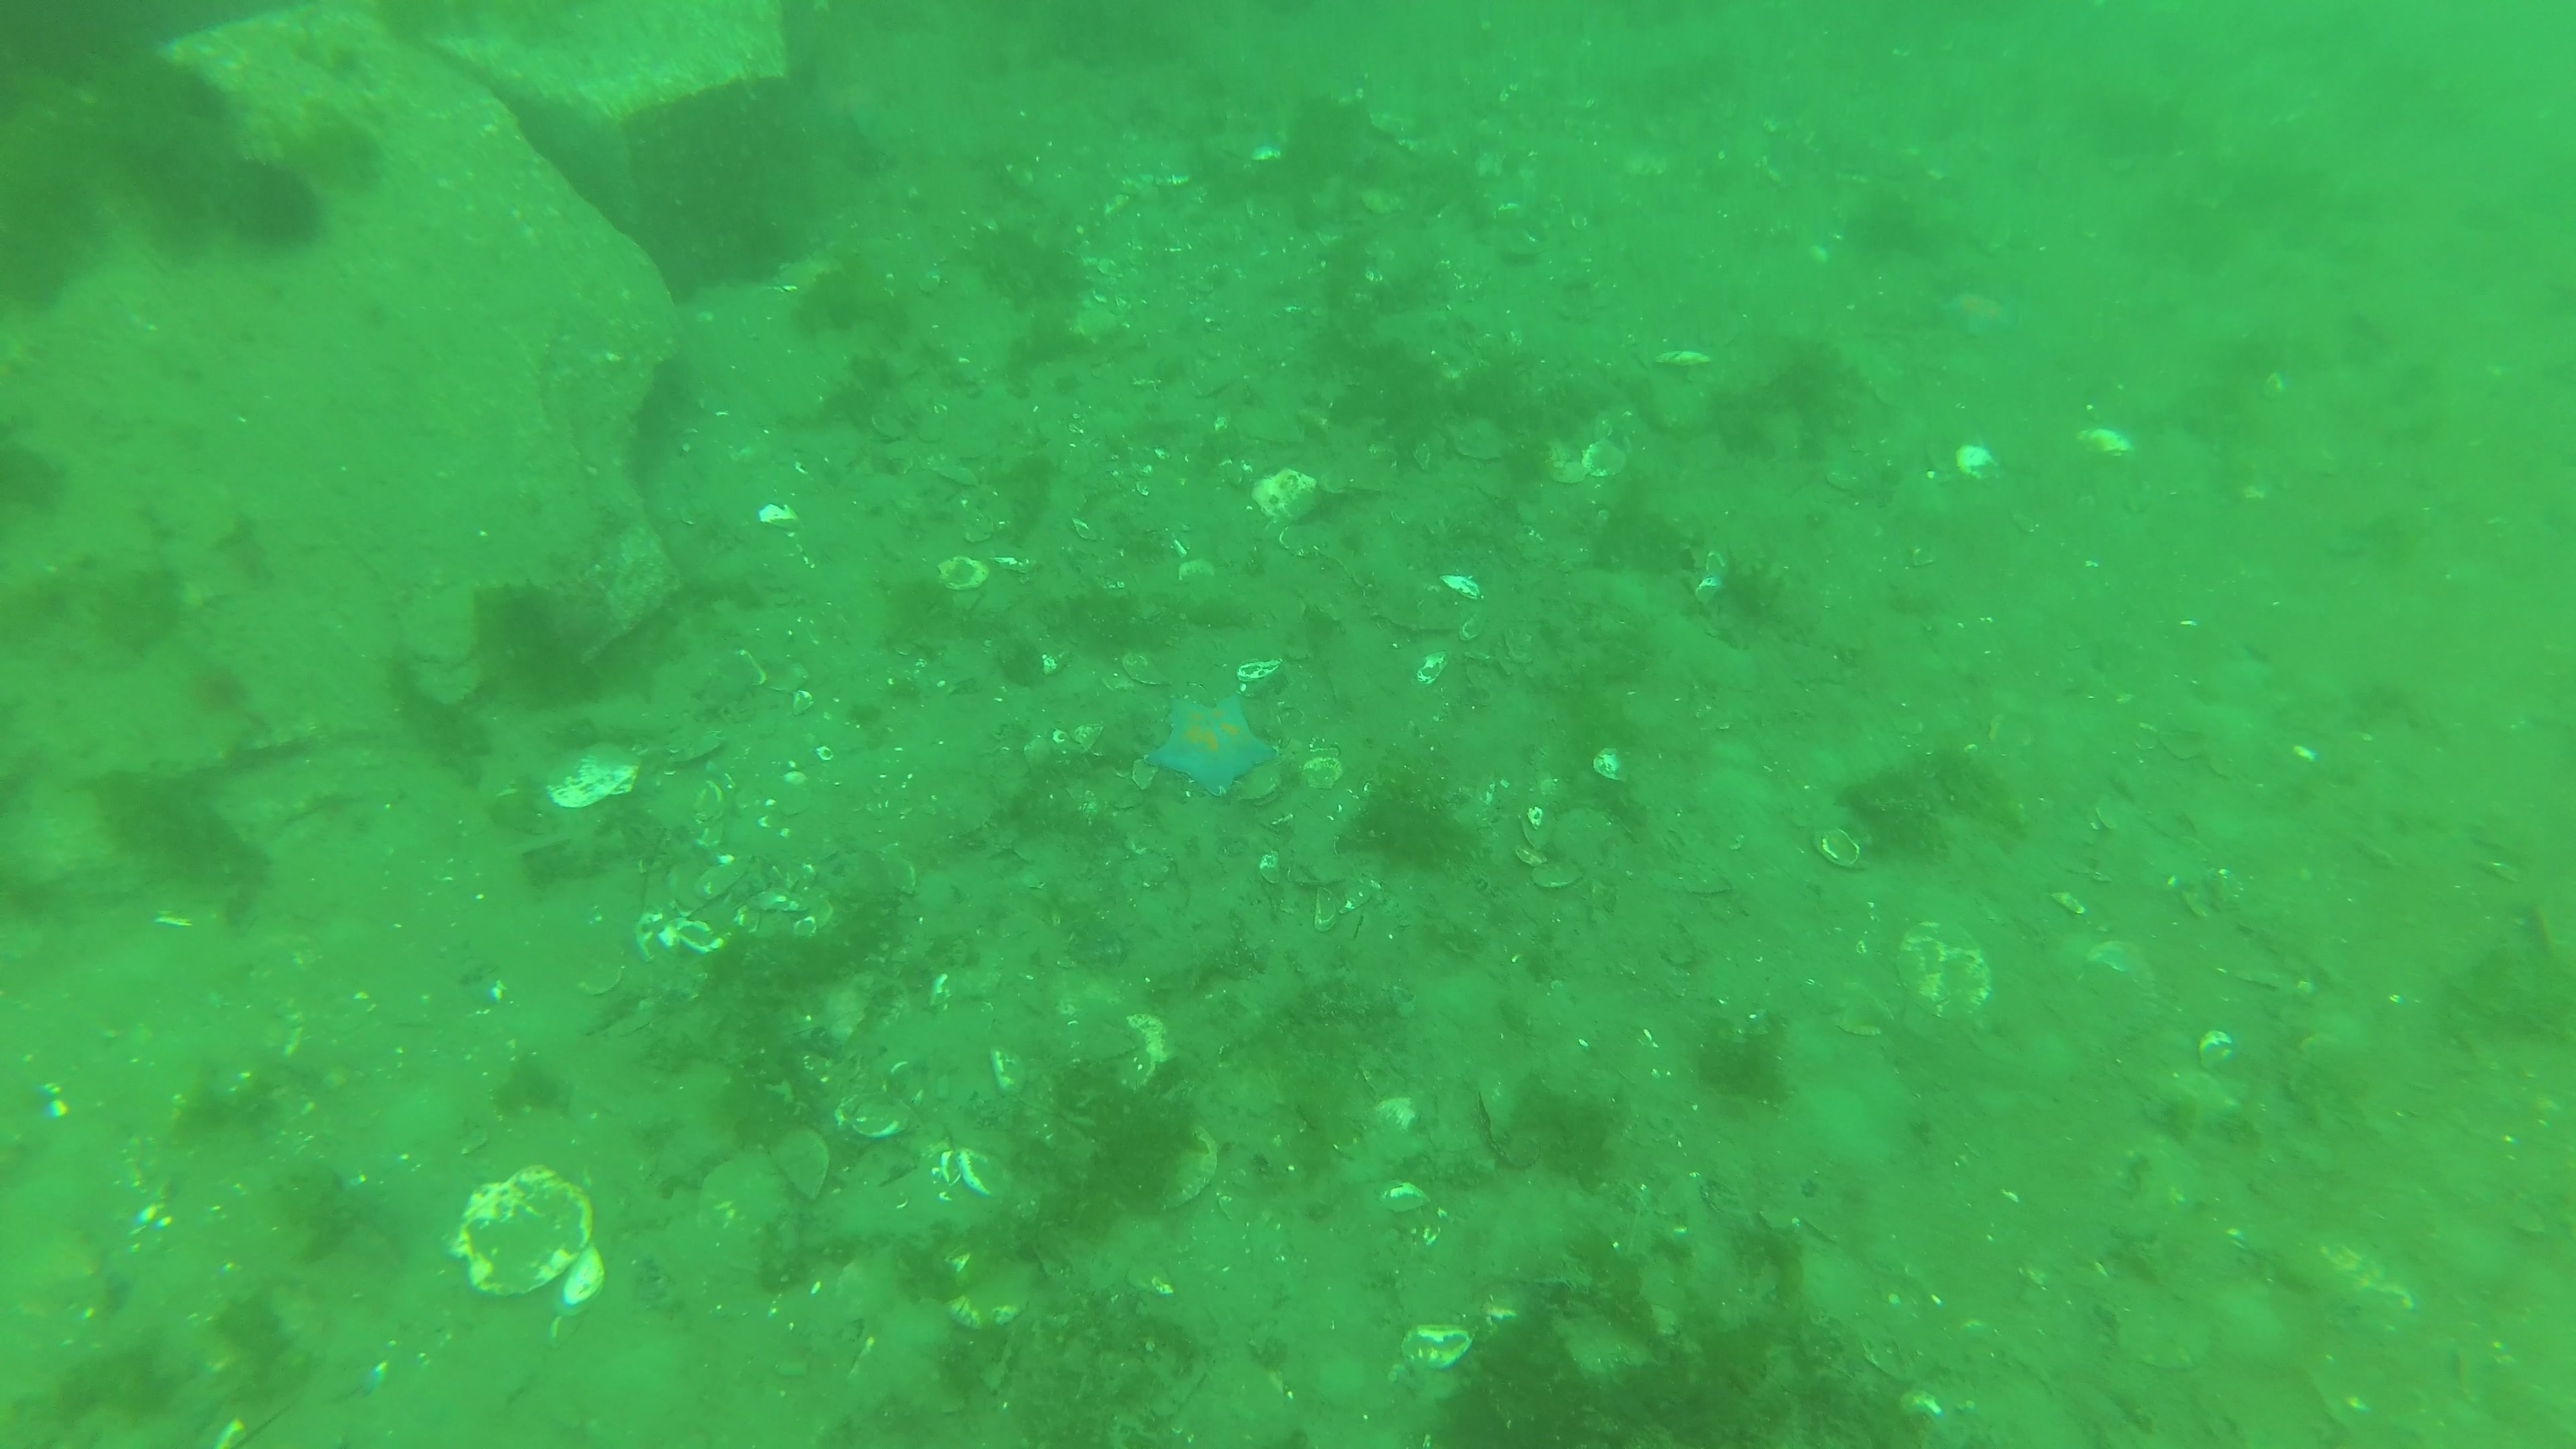echinus: (209, 138, 327, 257)
starfish: (1141, 686, 1288, 801), (1927, 278, 2026, 340)
